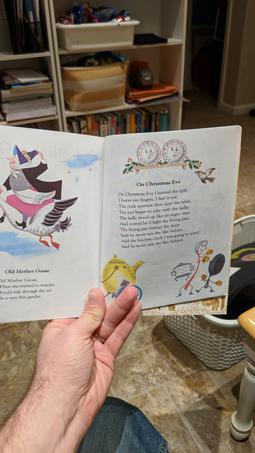text block: (107, 177, 210, 250), (1, 266, 70, 303)
